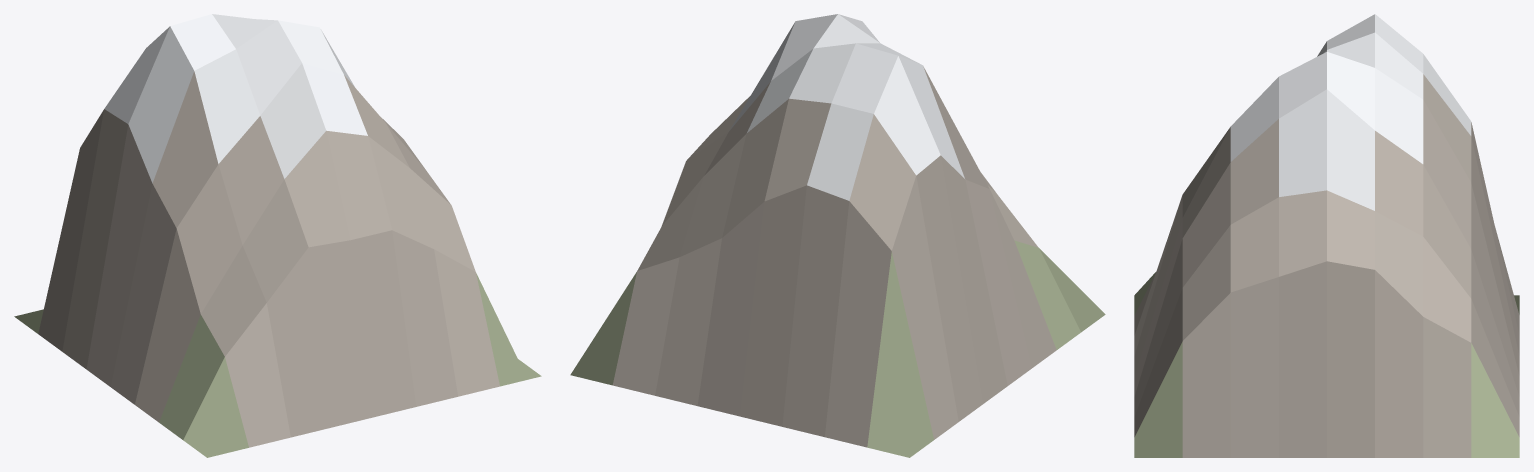
Rendered from mountain.glb.
3 renders of one model, left to right at view 1: azimuth 30°, elevation 25°; view 2: azimuth 150°, elevation 25°; view 3: azimuth 270°, elevation 25°, orthographic.
Visible parts, largest first — view 1: mountain; view 2: mountain; view 3: mountain.
Part boxes in pixels (x1,y1,x2,y2): mountain: [14, 14, 541, 457]; mountain: [570, 14, 1105, 457]; mountain: [1134, 14, 1519, 457].
Size of the model in its own units: 1 by 0.931 by 1.
